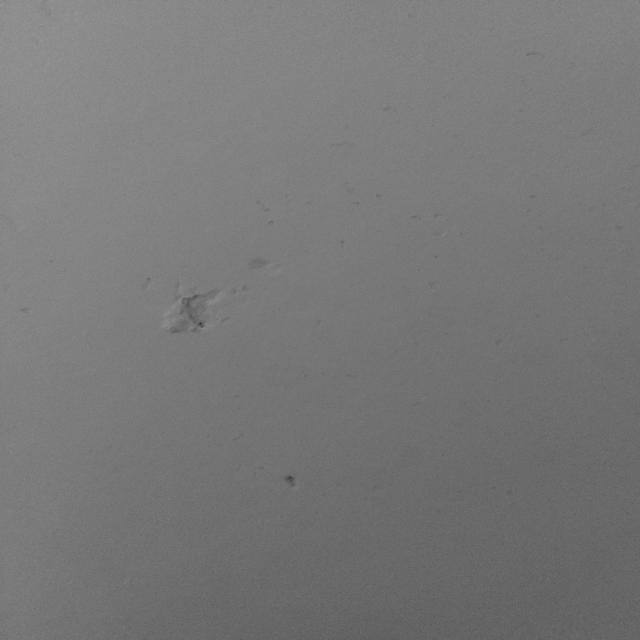rough and patchy surface: (145, 229, 308, 377)
